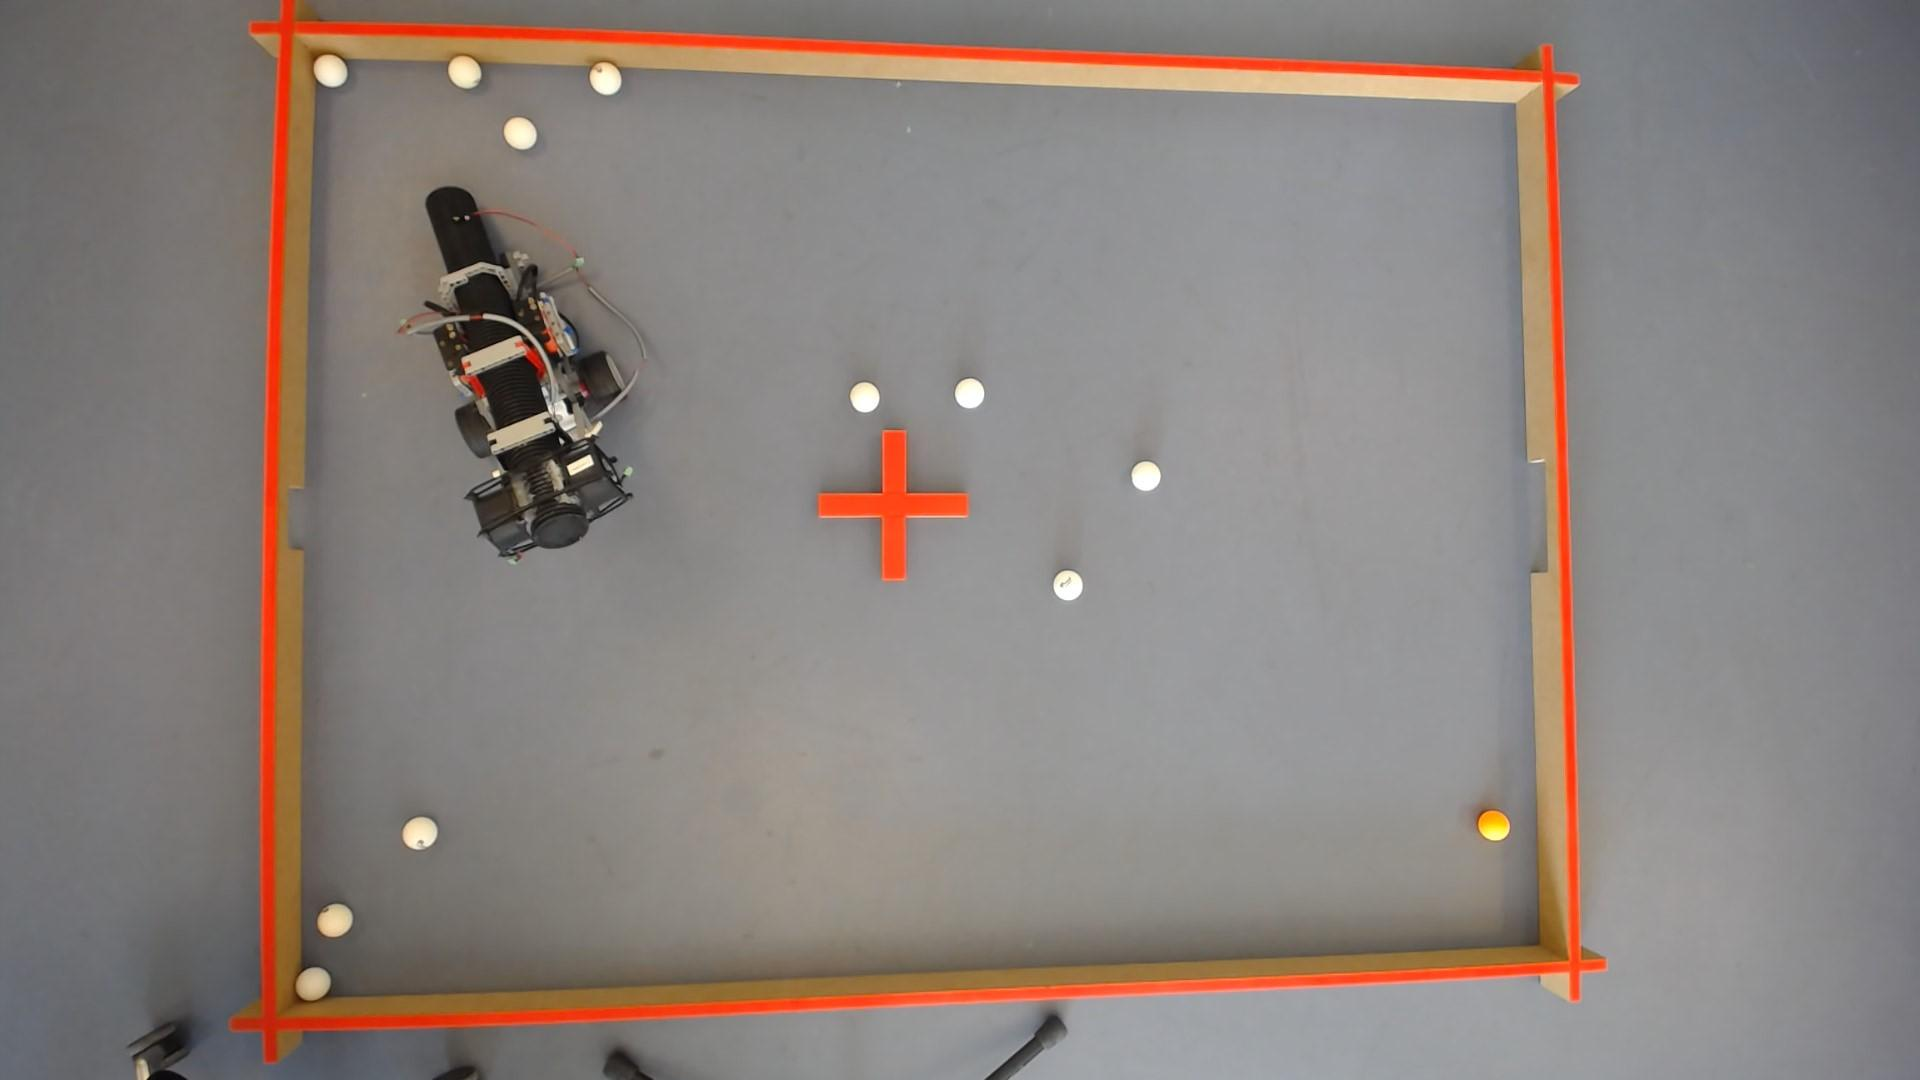orange: (1480, 810, 1513, 841)
robot: (422, 183, 628, 560)
white: (314, 903, 351, 939), (501, 113, 537, 149), (293, 967, 328, 1002), (401, 818, 436, 851), (311, 51, 345, 84), (447, 51, 480, 86), (588, 58, 621, 92), (1054, 568, 1084, 600), (851, 380, 880, 410), (956, 377, 985, 407), (1133, 460, 1162, 489)
